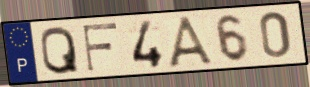0: (258, 9, 294, 61)
4: (130, 18, 165, 70)
6: (214, 13, 251, 64)
A: (166, 14, 219, 68)
F: (80, 21, 119, 74)
Q: (39, 24, 82, 76)
